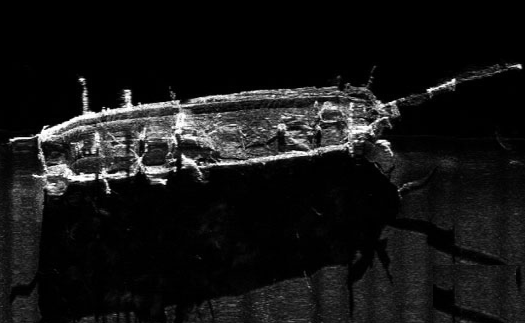ship: (15, 58, 523, 197)
